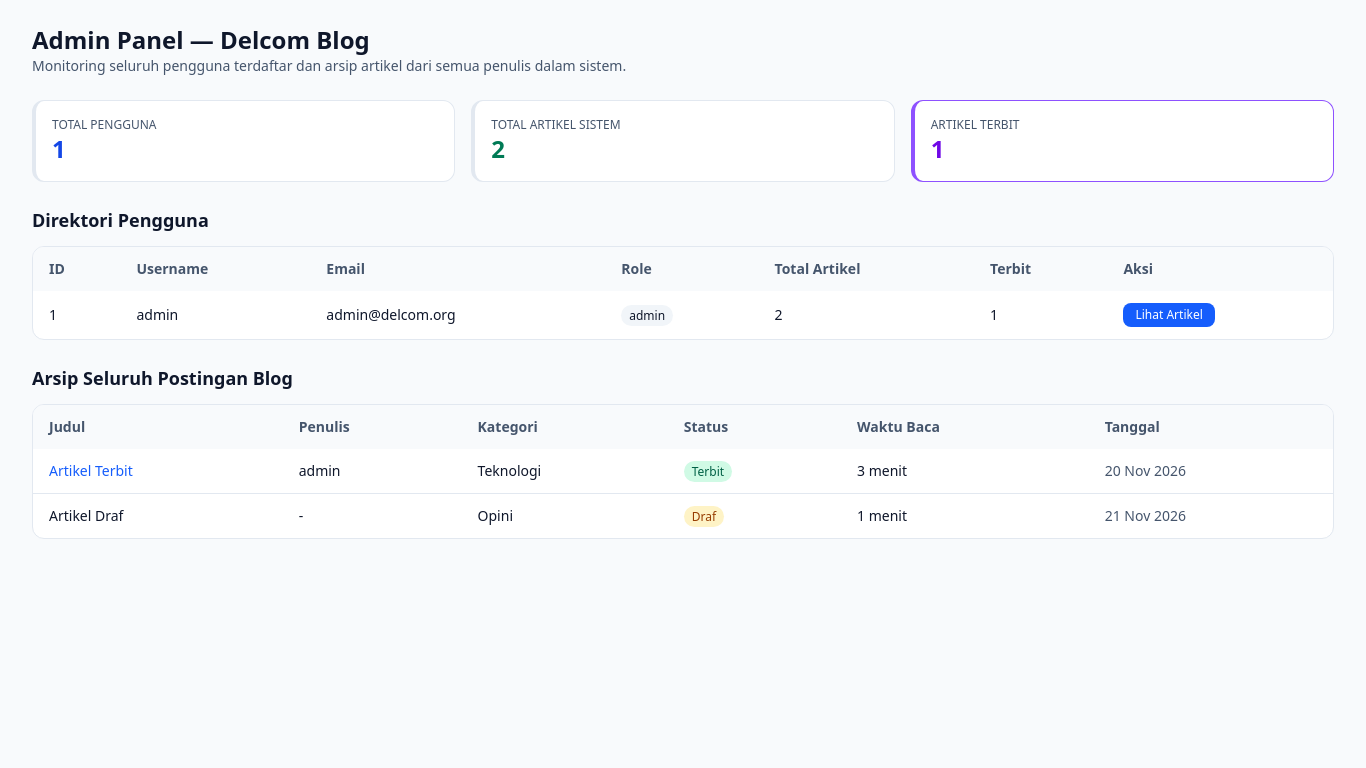
Test: AdminDashboard › loads users & archive posts, inspects user posts, and navigates to published post
Later steps or results of the test are not shown.
Expected: the text "admin@delcom.org" is shown, x1=310 y1=291 x2=605 y2=339
Click the button "Artikel Terbit" at (91, 471), box x1=49 y1=461 x2=133 y2=481
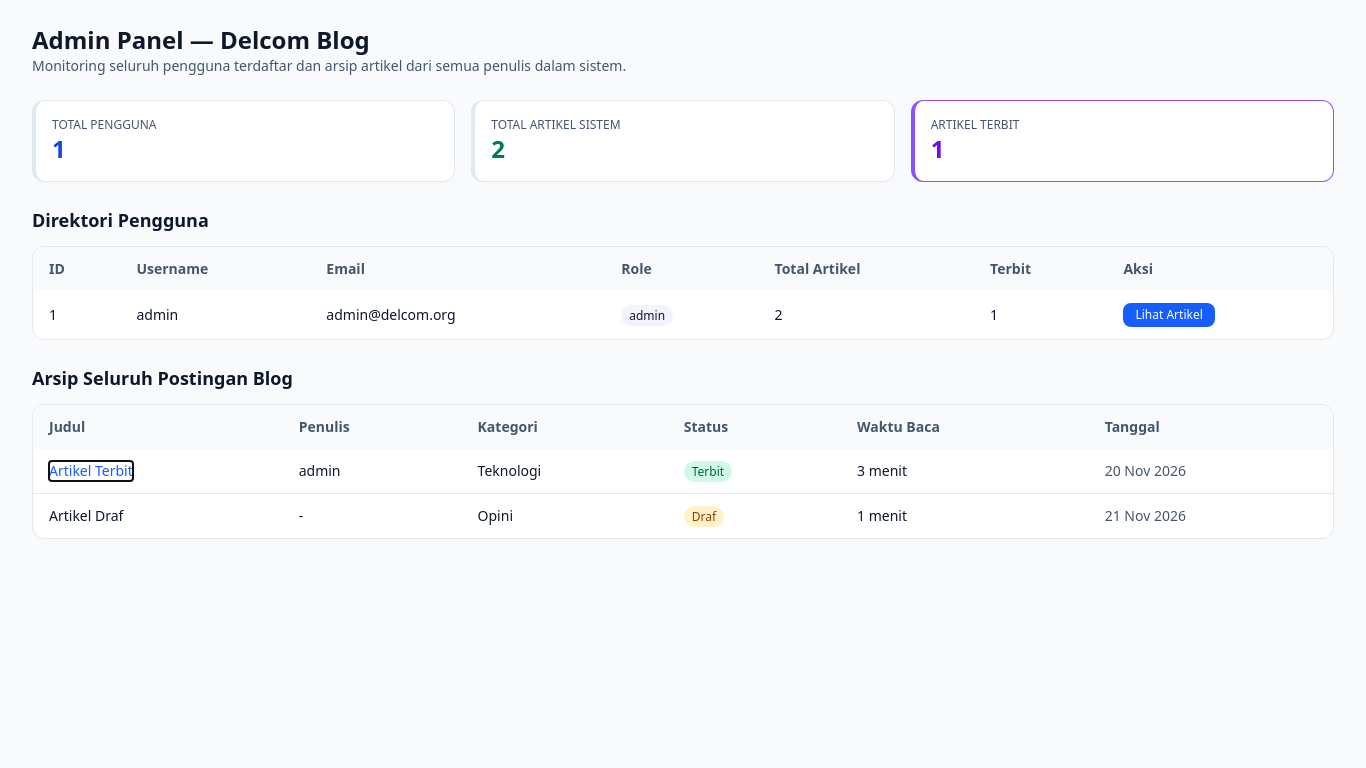
Expected: the text "Artikel Draf" is shown, x1=49 y1=506 x2=123 y2=525
Click the button "Lihat Artikel" at (1169, 315), box x1=1124 y1=303 x2=1215 y2=327
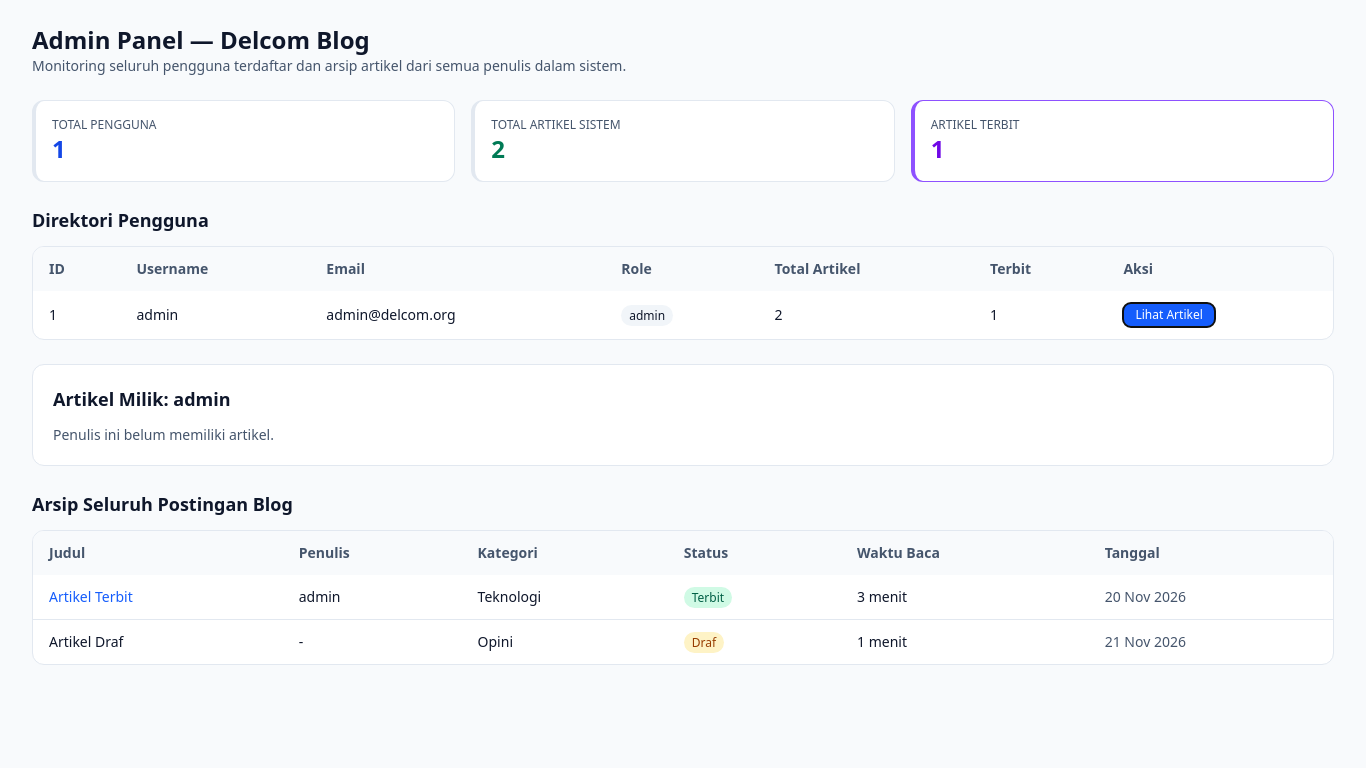
Click the button "Lihat Artikel" at (1169, 315), box x1=1124 y1=303 x2=1215 y2=327
Expected: the text "Penulis ini belum memiliki artikel." is shown, x1=53 y1=425 x2=274 y2=444
Click the button "Lihat Artikel" at (1169, 315), box x1=1124 y1=303 x2=1215 y2=327
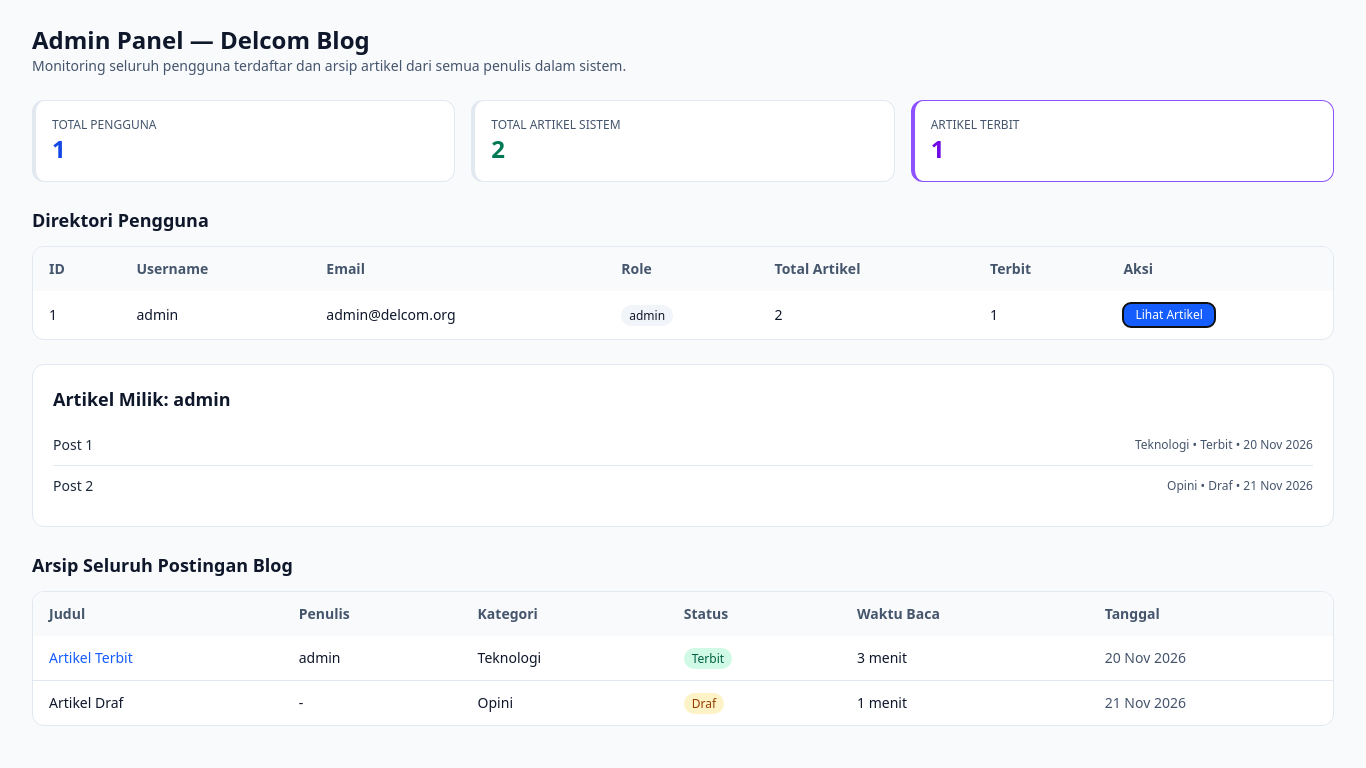
Expected: the text "Post 1" is shown, x1=53 y1=435 x2=93 y2=455
Expected: the text "Post 2" is shown, x1=53 y1=476 x2=93 y2=496
